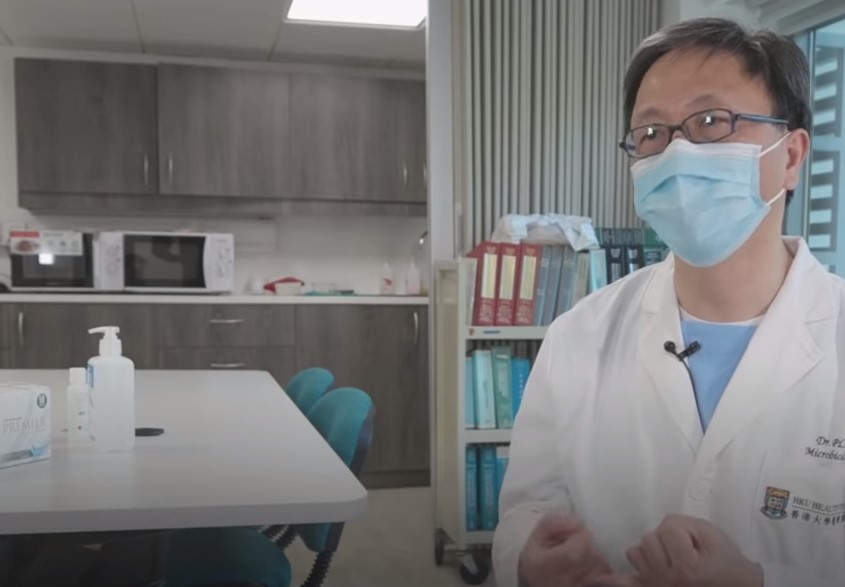face_with_mask: (620, 29, 810, 268)
